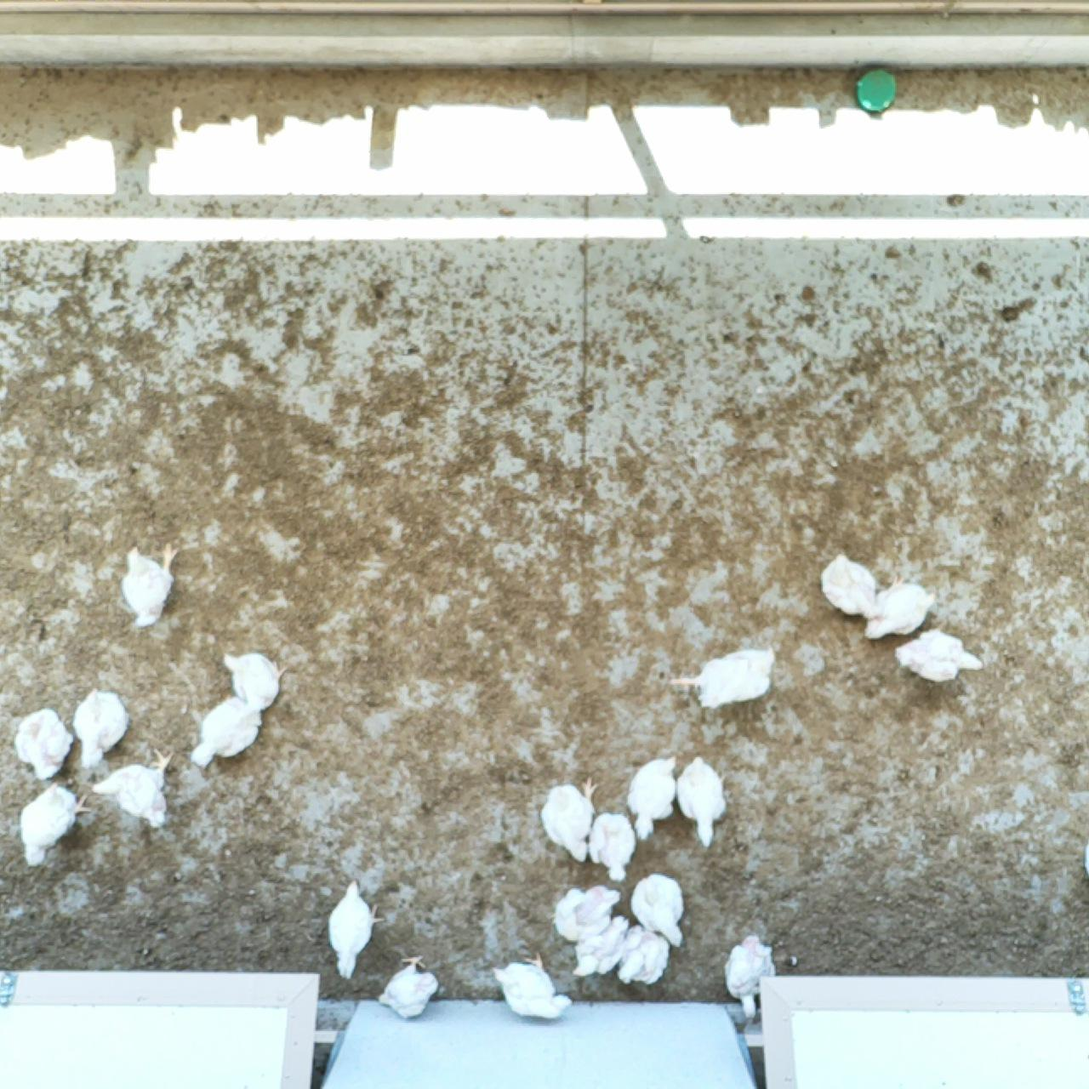chicken: (655, 643, 778, 711), (92, 746, 173, 831), (16, 778, 87, 871), (489, 948, 577, 1021), (891, 623, 989, 688), (327, 874, 387, 980), (671, 751, 732, 853), (117, 536, 181, 631), (538, 772, 600, 868), (724, 925, 778, 1025), (861, 574, 938, 641), (190, 697, 262, 767), (565, 913, 633, 986), (76, 686, 133, 772), (547, 884, 624, 947), (631, 869, 693, 947), (218, 646, 289, 714), (625, 752, 679, 841), (13, 703, 73, 781), (379, 948, 446, 1015), (583, 809, 639, 887), (820, 553, 882, 617), (615, 918, 672, 985)
